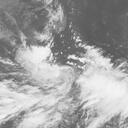cyclone: (26, 46, 106, 114)
